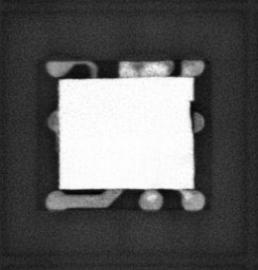DIE_BROKEN: (188, 98, 195, 133)
